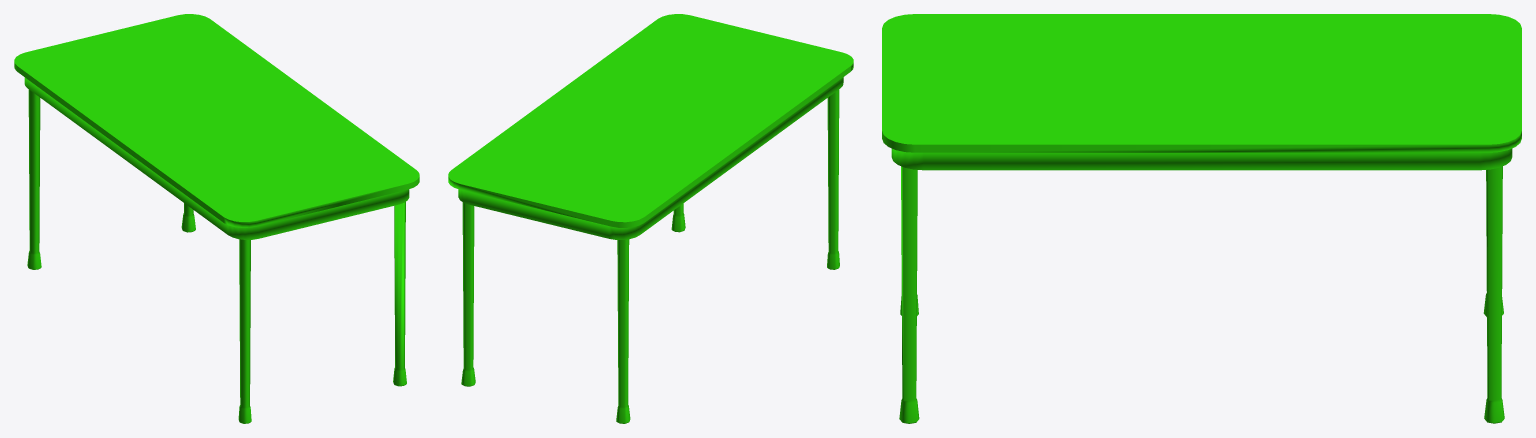
Rendered from Table_Kitchen_01_Lod0.fbx.
3 renders of one model, left to right at view 1: azimuth 30°, elevation 25°; view 2: azimuth 150°, elevation 25°; view 3: azimuth 270°, elevation 25°, orthographic. The views are drawn at different scales.
Visible parts, largest first — view 1: Table_Kitchen_01_Lod0; view 2: Table_Kitchen_01_Lod0; view 3: Table_Kitchen_01_Lod0.
Part boxes in pixels (x1,y1,x2,y2): Table_Kitchen_01_Lod0: [14, 14, 419, 423]; Table_Kitchen_01_Lod0: [448, 14, 853, 423]; Table_Kitchen_01_Lod0: [882, 14, 1521, 423].
Size of the model in its own units: 74.48 by 76.58 by 154.
